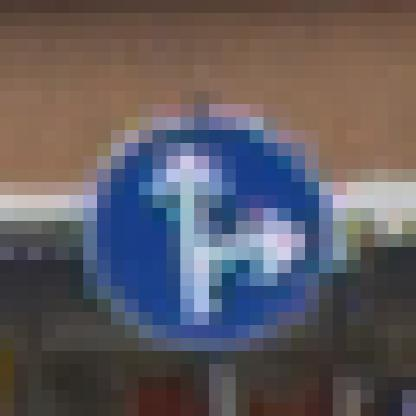Straight or Right: (70, 79, 348, 339)
